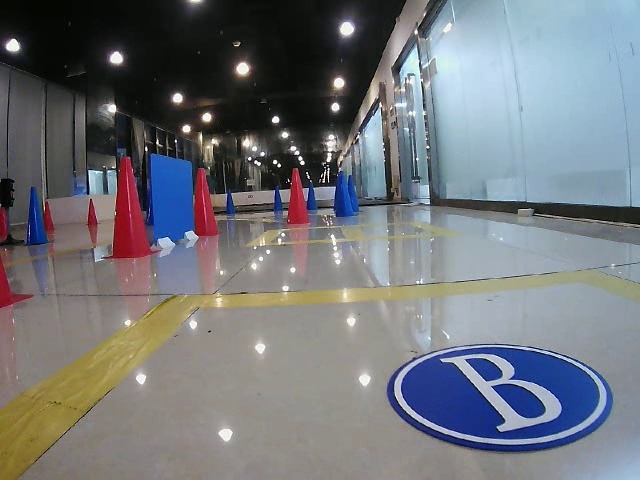B: (396, 341, 610, 444)
